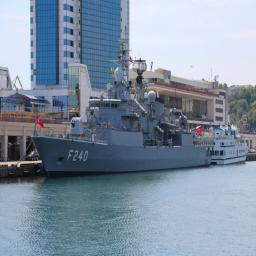Fragata: (29, 25, 218, 183)
